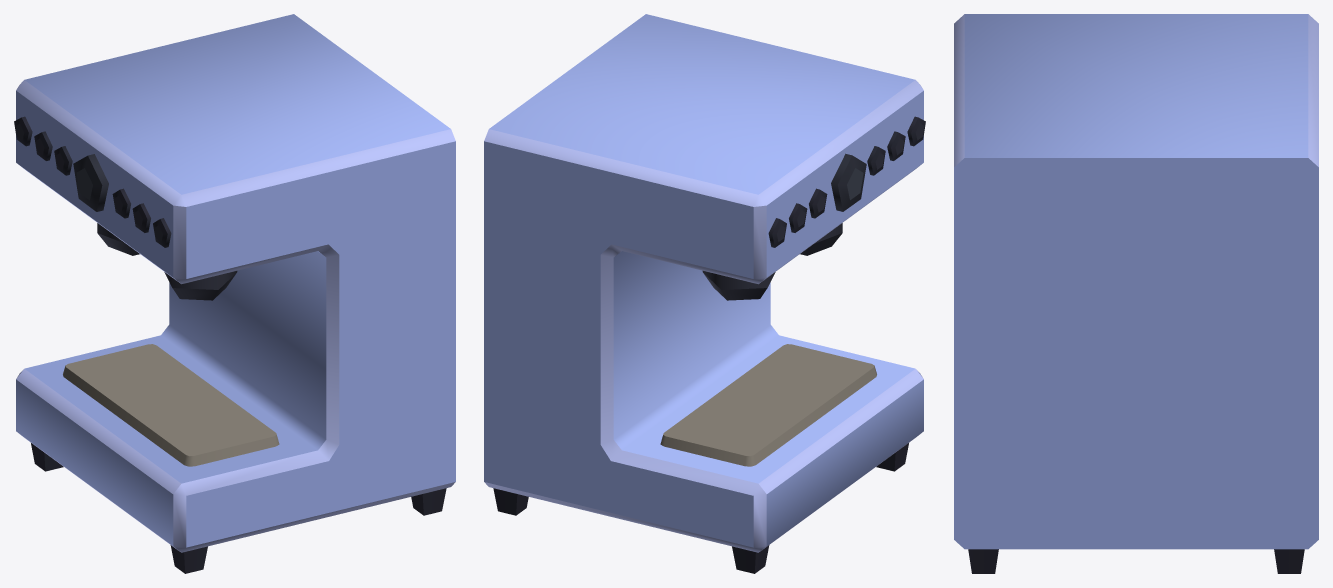
File: CoffeeMachine_1_B.fbx
The picture shows the model from 3 angles, left to right: view 1: azimuth 30°, elevation 25°; view 2: azimuth 150°, elevation 25°; view 3: azimuth 270°, elevation 25°; orthographic projection. The views are drawn at different scales.
Parts seen in each view (by area): view 1: CoffeeMachine_1_B; view 2: CoffeeMachine_1_B; view 3: CoffeeMachine_1_B.
Boxes of the visible parts, x1=… form: CoffeeMachine_1_B: x1=14, y1=14, x2=455, y2=573; CoffeeMachine_1_B: x1=484, y1=14, x2=925, y2=573; CoffeeMachine_1_B: x1=954, y1=14, x2=1318, y2=573.
Bounding box in the file's own units: 48.51 × 61.74 × 48.68.
